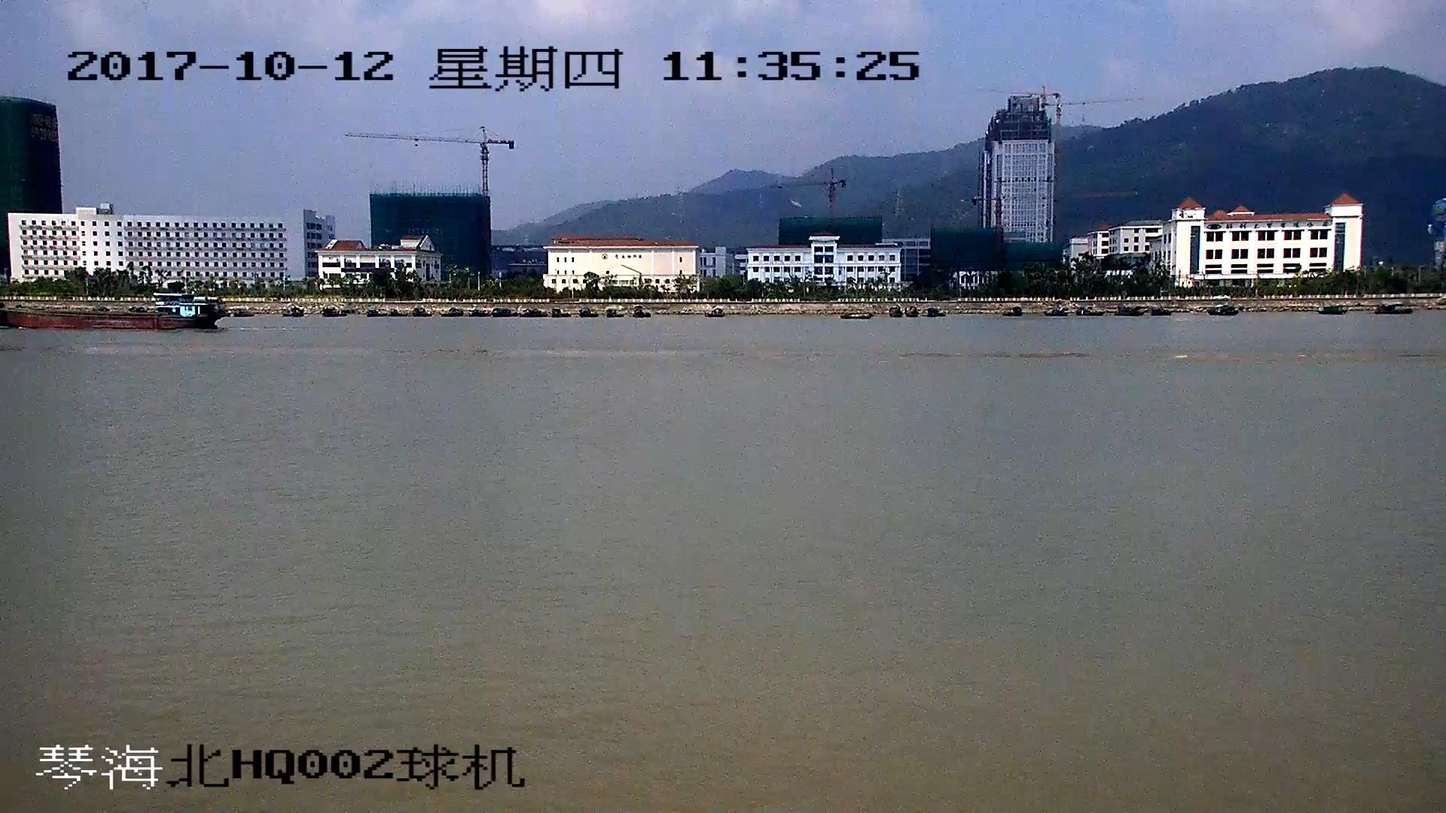bulk cargo carrier: (0, 289, 223, 330)
